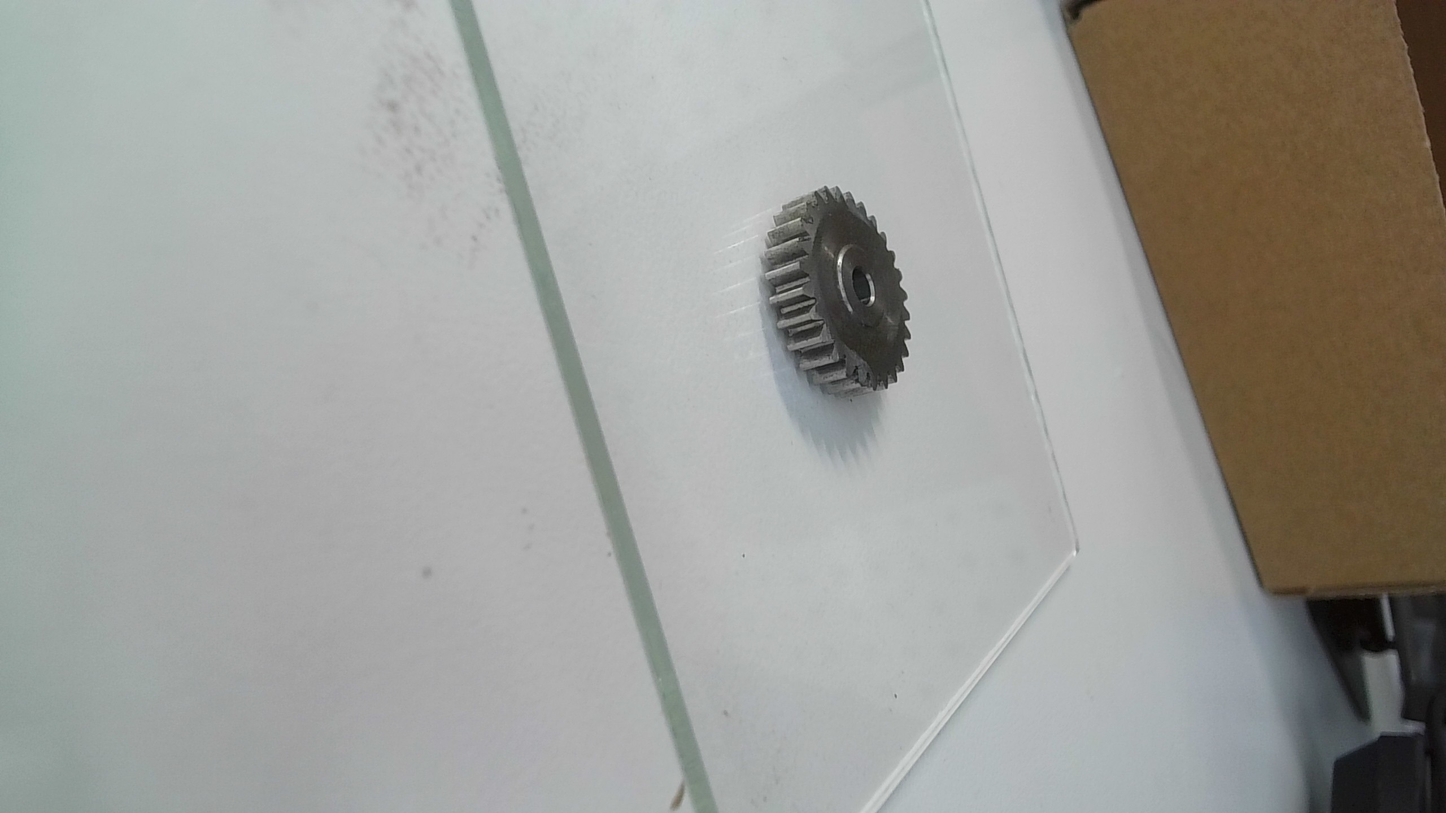gear: (762, 188, 910, 399)
